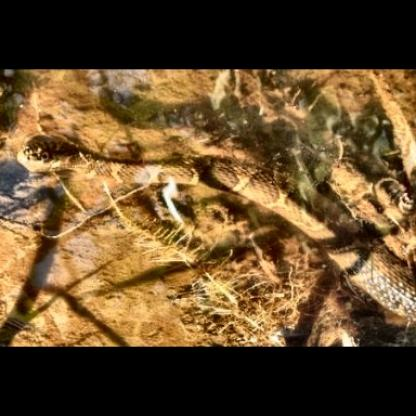Snake: (15, 124, 254, 201)
